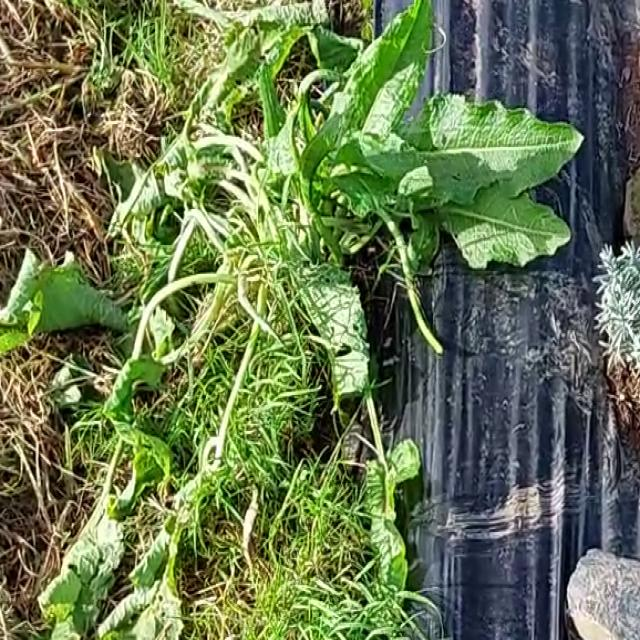organic waste: (116, 4, 600, 320), (13, 367, 252, 640), (0, 205, 250, 421)
